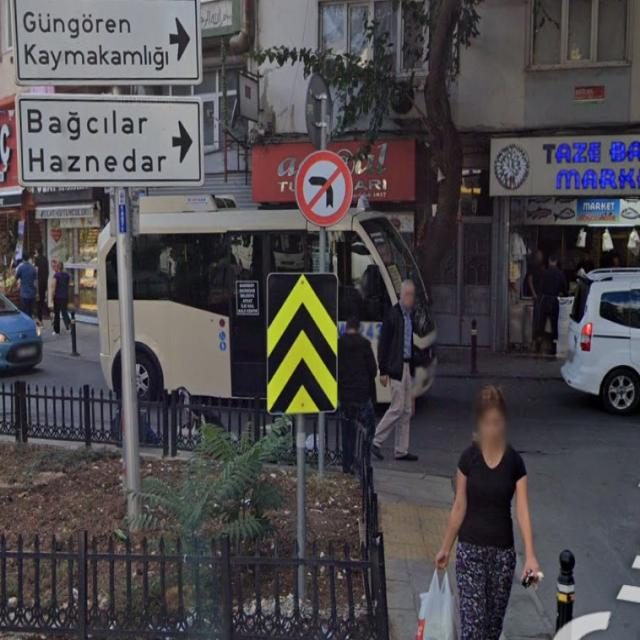soladonulmez: (296, 150, 353, 227)
